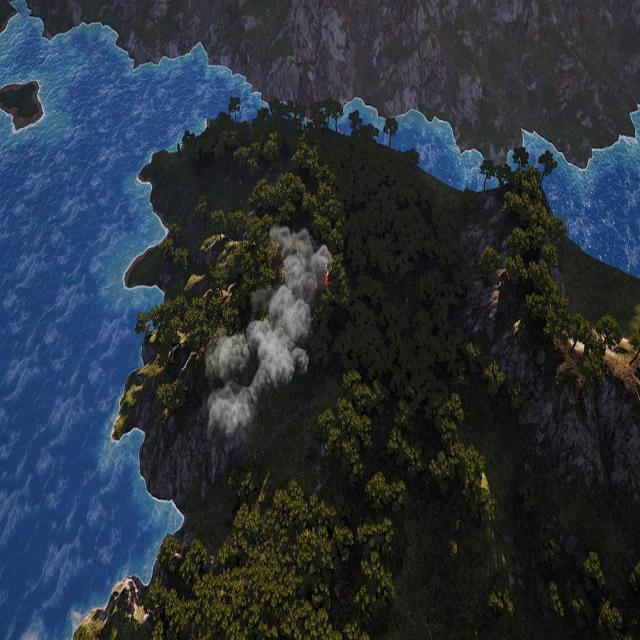fire: (326, 268, 334, 288)
smoke: (207, 224, 335, 438)
